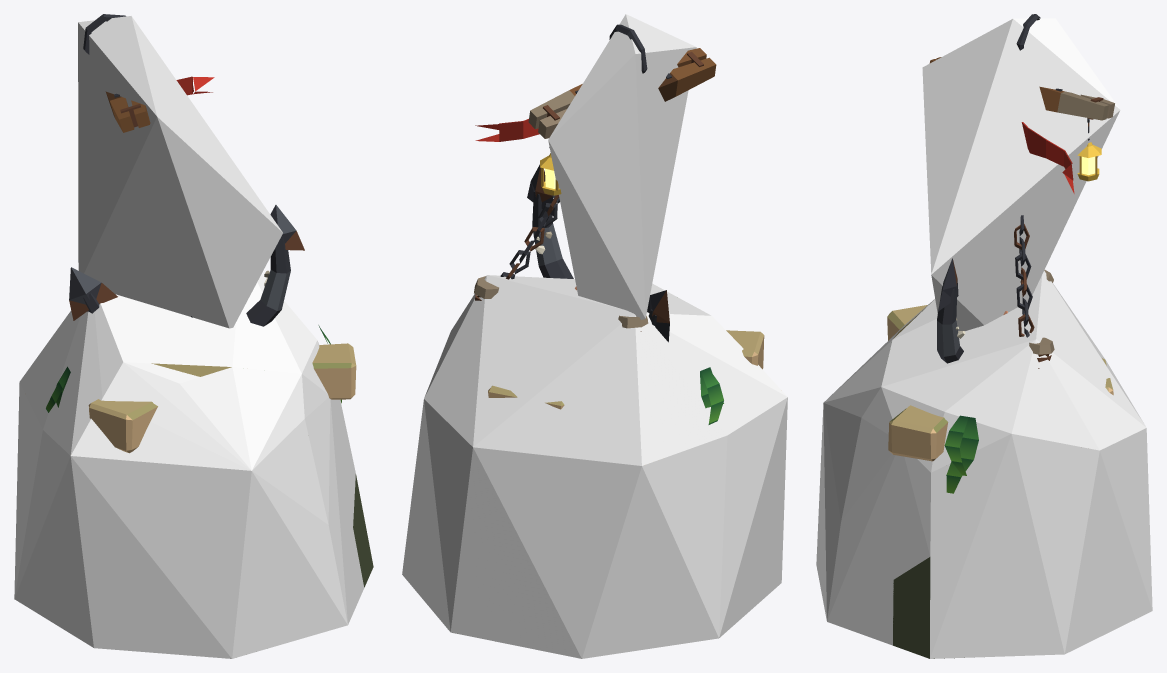
Rendered from sunken_anchor_memorial.glb.
3 views of the same model, side by side, from view 1: azimuth 30°, elevation 25°; view 2: azimuth 150°, elevation 25°; view 3: azimuth 270°, elevation 25° (orthographic). The views are drawn at different scales.
Visible parts, largest first — view 1: col_anchor_base, col_anchor_shank, SunkenAnchorMemorial; view 2: col_anchor_base, col_anchor_shank, SunkenAnchorMemorial; view 3: col_anchor_base, col_anchor_shank, SunkenAnchorMemorial.
Part boxes in pixels (x1,y1,x2,y2): col_anchor_base: [14, 274, 364, 658]; col_anchor_shank: [78, 16, 282, 328]; SunkenAnchorMemorial: [46, 14, 373, 587]; col_anchor_base: [402, 275, 787, 658]; col_anchor_shank: [548, 14, 696, 319]; SunkenAnchorMemorial: [473, 24, 764, 424]; col_anchor_base: [816, 270, 1152, 658]; col_anchor_shank: [922, 18, 1120, 331]; SunkenAnchorMemorial: [887, 14, 1114, 658].
Bounding box in the file's own units: 6.09 × 10.75 × 5.99.
